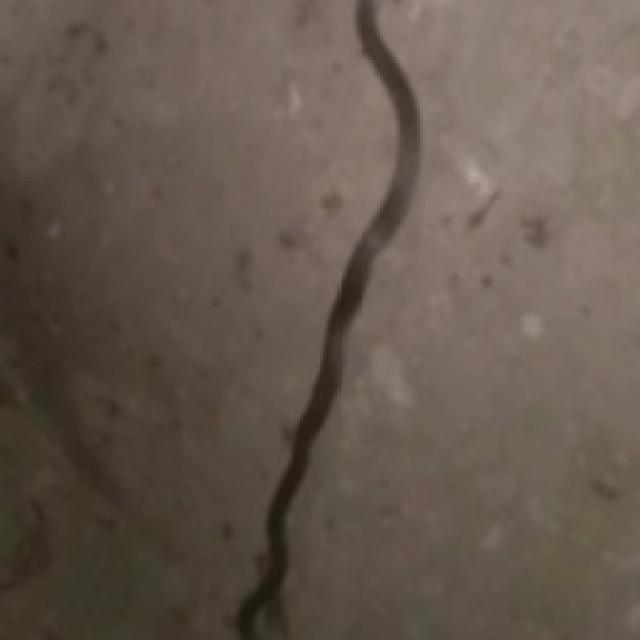king cobra: (237, 0, 417, 637)
